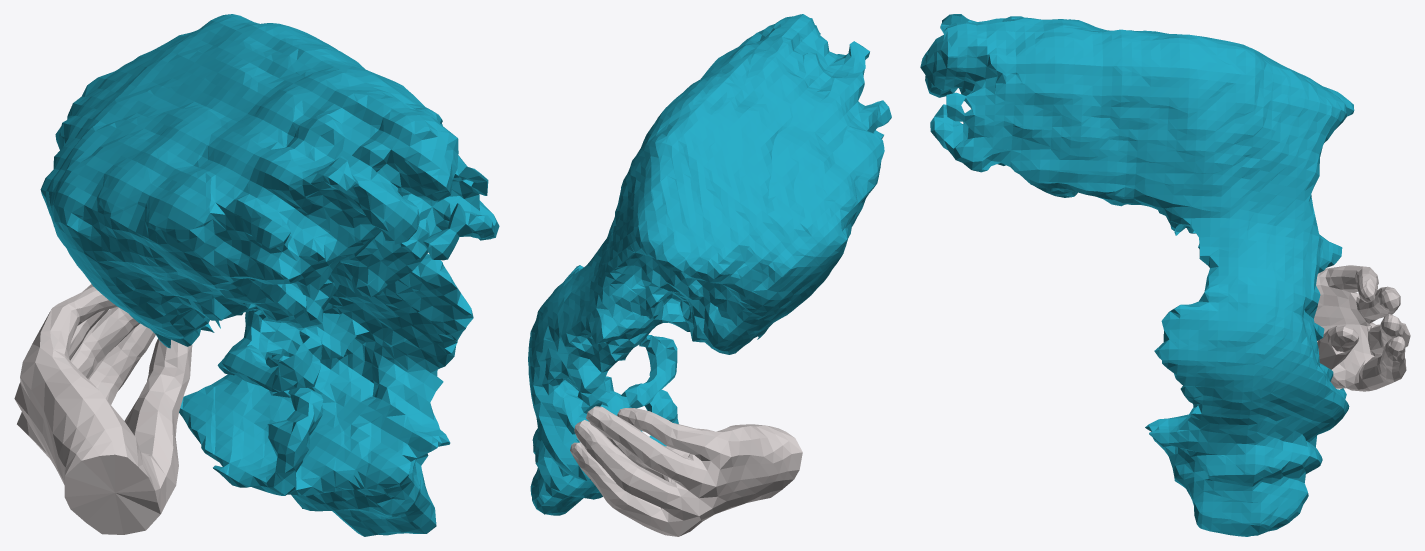
3 renders of one model, left to right at view 1: azimuth 30°, elevation 25°; view 2: azimuth 150°, elevation 25°; view 3: azimuth 270°, elevation 25°, orthographic. The views are drawn at different scales.
Visible parts, largest first — view 1: world; view 2: world; view 3: world.
Part boxes in pixels (bbox=[...]): world: bbox=[14, 14, 499, 536]; world: bbox=[528, 14, 891, 536]; world: bbox=[920, 14, 1410, 536].
Bounding box in the file's own units: 0.2242 × 0.3166 × 0.3098.
